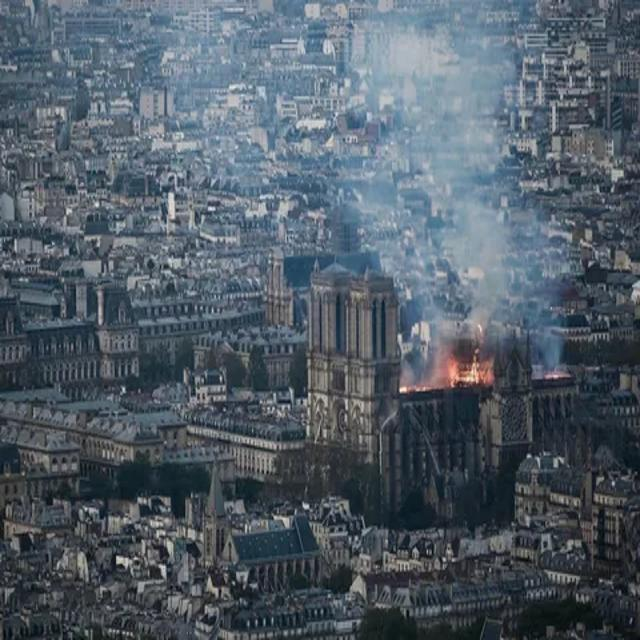Smoke: (363, 23, 580, 390)
